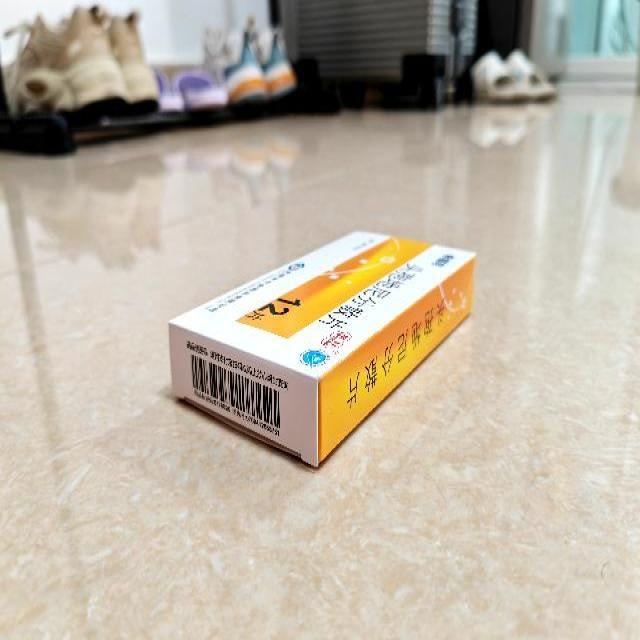box: (170, 227, 474, 469)
